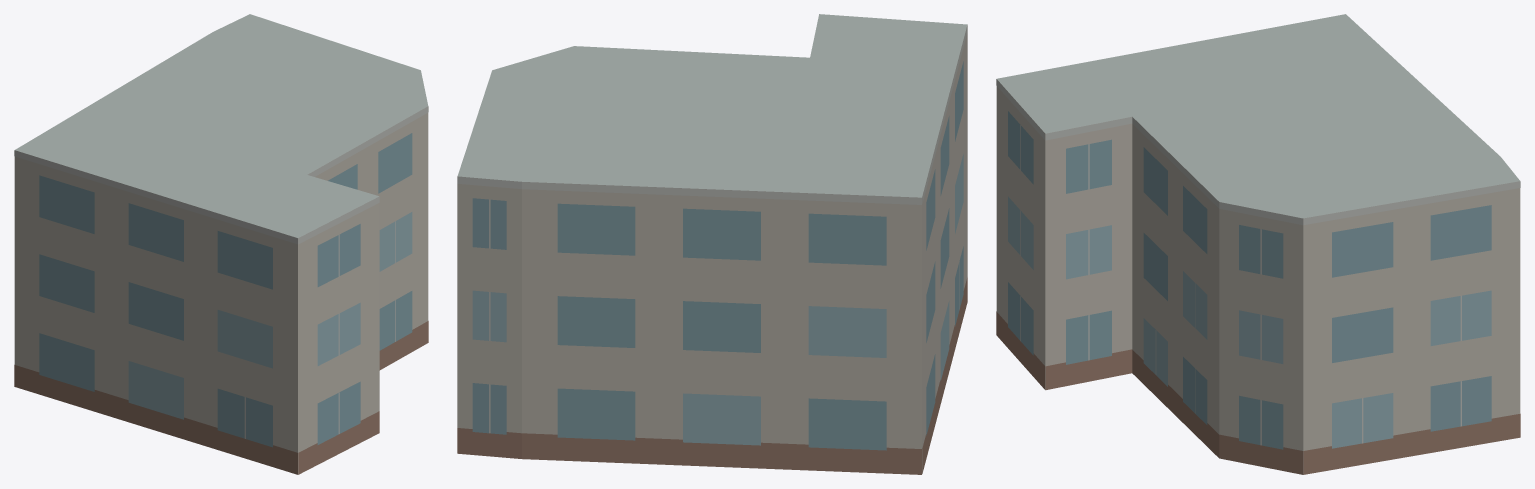
File: survey-upis-32672717.glb
3 views of the same model, side by side, from view 1: azimuth 30°, elevation 25°; view 2: azimuth 150°, elevation 25°; view 3: azimuth 270°, elevation 25° (orthographic). The views are drawn at different scales.
Parts seen in each view (by area): view 1: survey-upis-32672717.tmp; view 2: survey-upis-32672717.tmp; view 3: survey-upis-32672717.tmp.
Part boxes in pixels (x1,y1,x2,y2): survey-upis-32672717.tmp: (14,14,428,474); survey-upis-32672717.tmp: (457,14,967,474); survey-upis-32672717.tmp: (996,14,1520,474).
Bounding box in the file's own units: 15.65 × 9.15 × 16.95.
